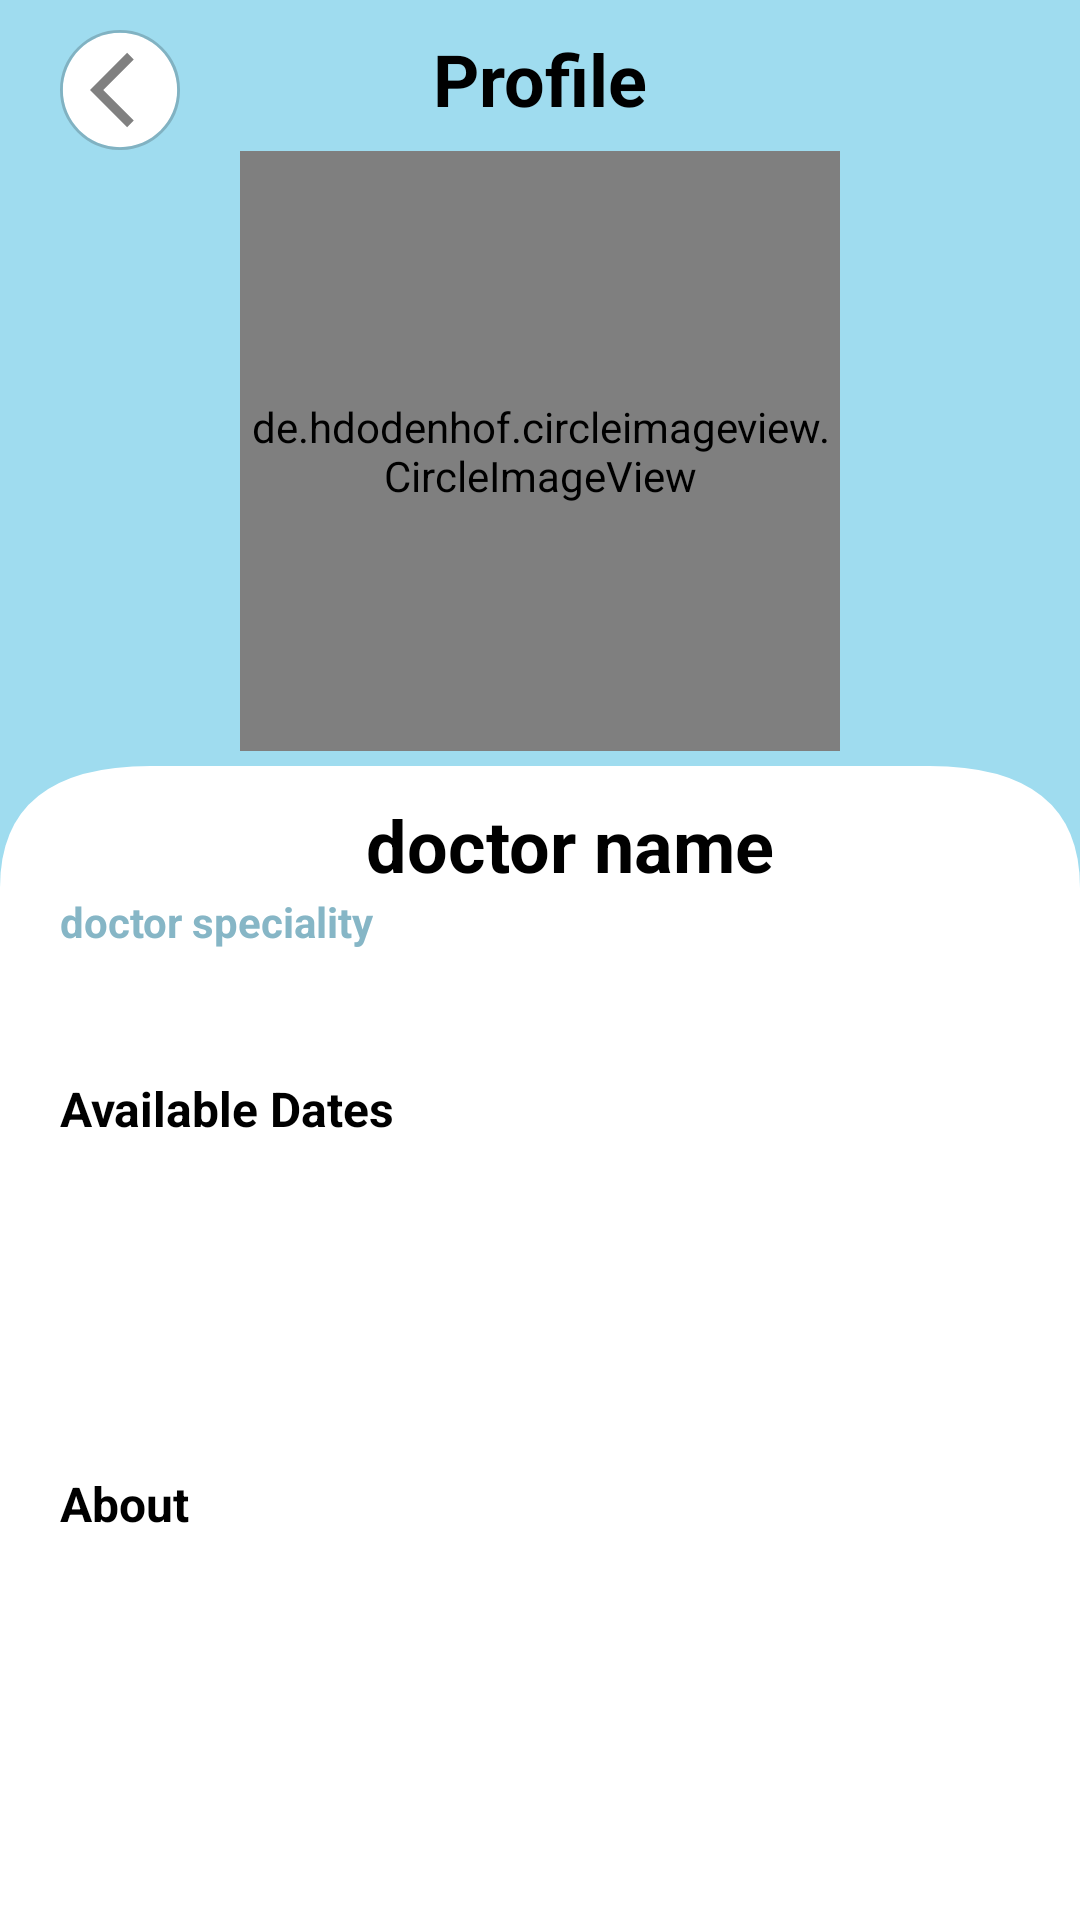

Where icons sit on this 1080px×1920px app screen, as [x1=x1, y1=y1, x2=x2, y2=y2]:
back: [x1=60, y1=30, x2=180, y2=150]
